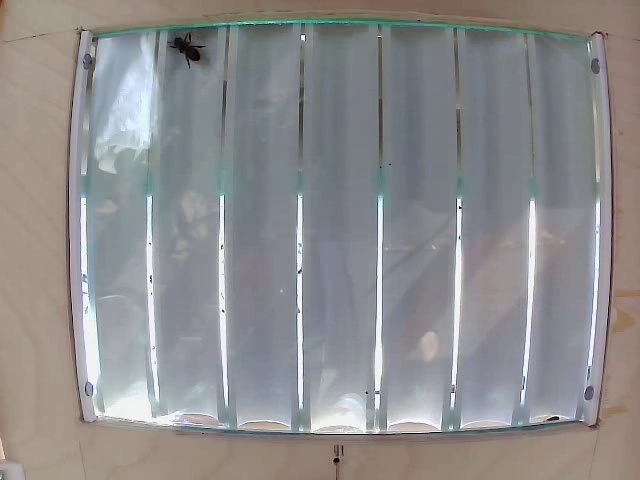bee: (161, 31, 205, 78)
